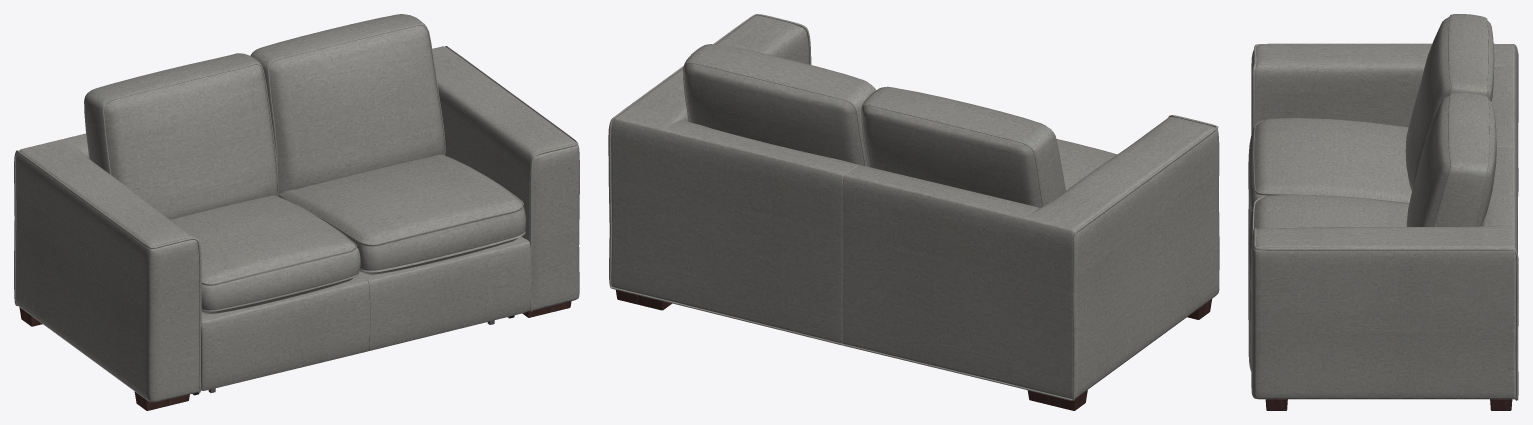
The model's file is abo-B071LTB14G.glb.
3 renders of one model, left to right at view 1: azimuth 30°, elevation 25°; view 2: azimuth 150°, elevation 25°; view 3: azimuth 270°, elevation 25°, orthographic. The views are drawn at different scales.
Bounding box in the file's own units: 1.81 × 0.924 × 1.01.
Materials: 1 (1 with a texture image).
